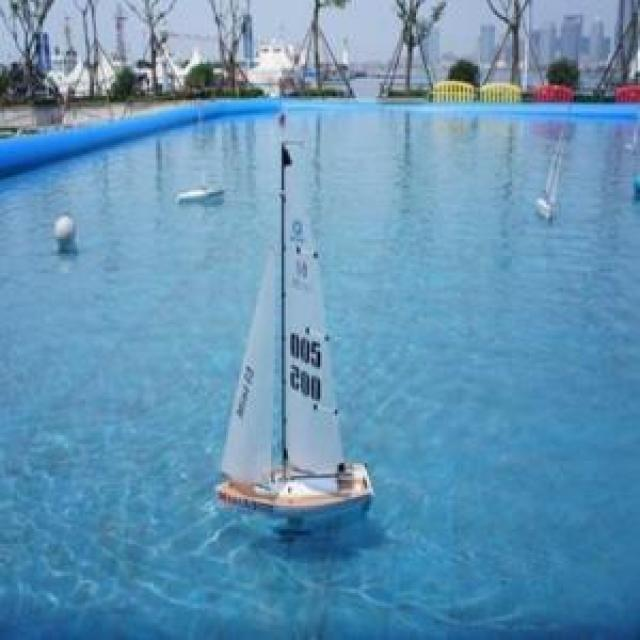sailboat: (214, 104, 382, 517), (527, 124, 570, 222)
